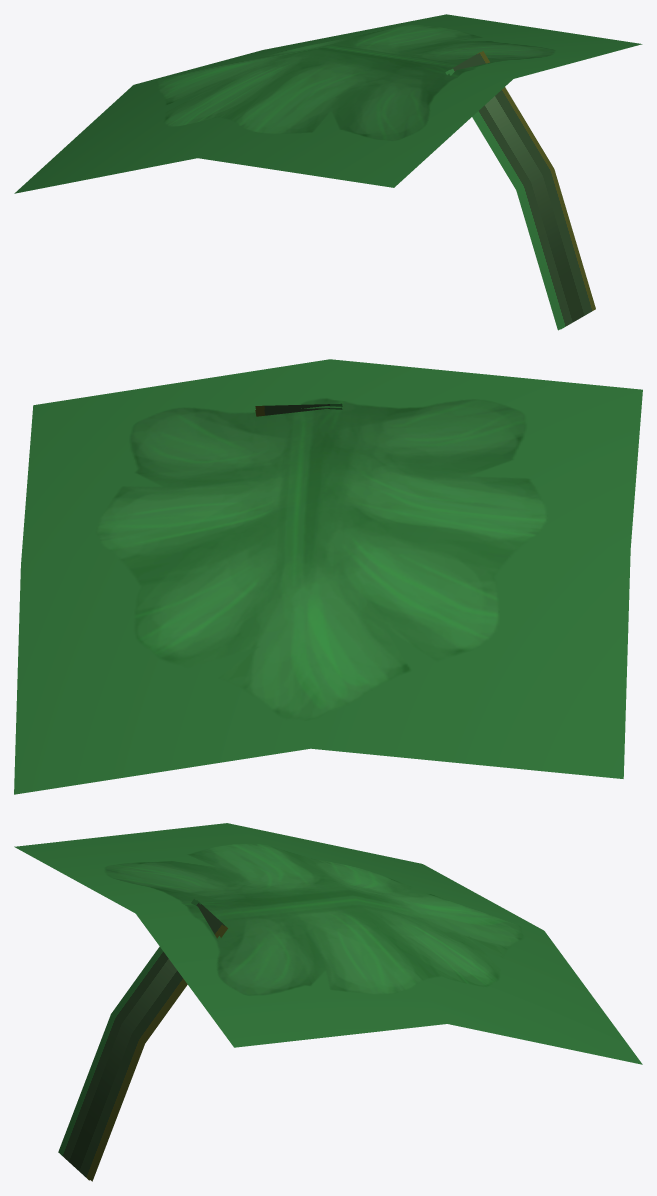
Rendered from grass_pant_05B.fbx.
3 renders of one model, top to bottom at view 1: azimuth 30°, elevation 25°; view 2: azimuth 150°, elevation 25°; view 3: azimuth 270°, elevation 25°, orthographic. The views are drawn at different scales.
Parts seen in each view (by area): view 1: grass_pant_05B; view 2: grass_pant_05B; view 3: grass_pant_05B.
Boxes of the visible parts, x1,y1,x2,y2 form: grass_pant_05B: (14, 14, 642, 330); grass_pant_05B: (14, 359, 642, 794); grass_pant_05B: (14, 823, 642, 1181).
Bounding box in the file's own units: 0.9073 × 0.3712 × 0.887.
